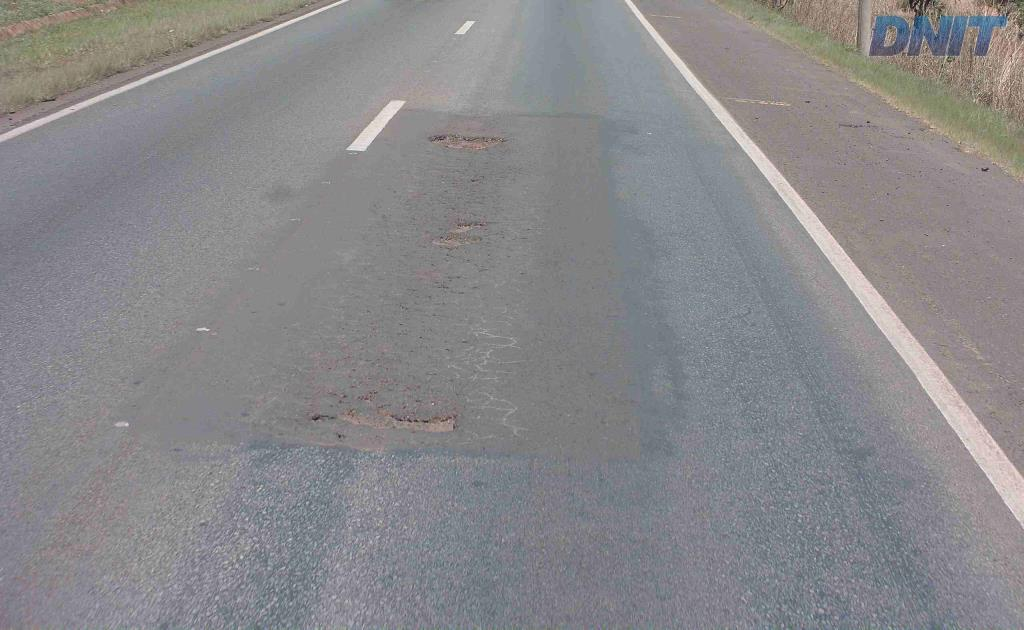pothole: (303, 400, 456, 437), (428, 216, 490, 257), (425, 129, 511, 155)
